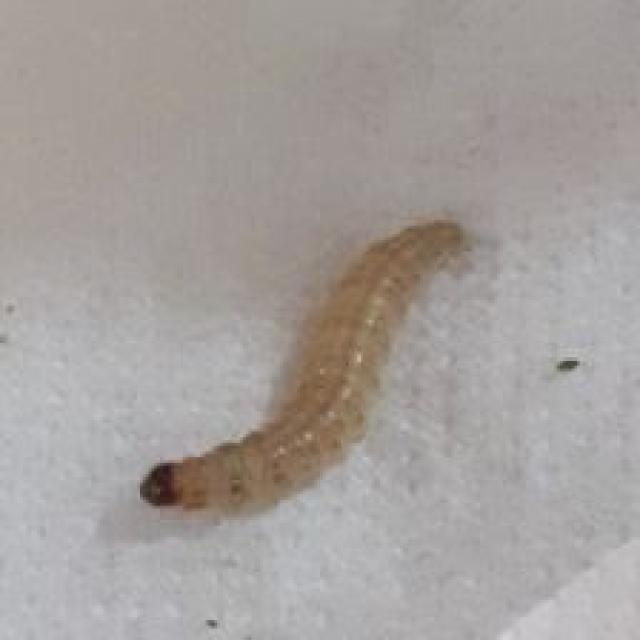white mucus: (123, 181, 494, 543)
